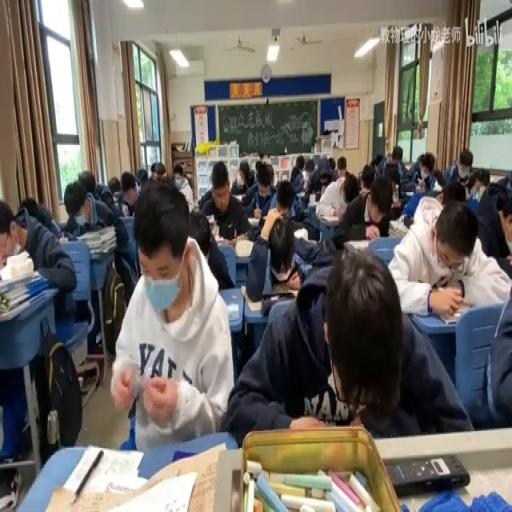calculator: (40, 441, 222, 510), (0, 287, 46, 320), (368, 234, 404, 264), (430, 299, 473, 323), (0, 266, 39, 292), (234, 238, 252, 256), (388, 218, 406, 236), (218, 232, 240, 246), (318, 212, 340, 225), (345, 239, 370, 250), (226, 302, 240, 320), (293, 226, 309, 240), (246, 214, 260, 224), (210, 222, 219, 237), (230, 193, 244, 202), (308, 196, 317, 209), (297, 191, 309, 199), (206, 214, 215, 224), (403, 191, 414, 199), (58, 235, 69, 243)
paper: (226, 248, 466, 442), (110, 180, 231, 450), (0, 195, 76, 462), (386, 196, 508, 314), (63, 174, 133, 298), (246, 213, 308, 303), (197, 160, 251, 244), (484, 277, 512, 427), (334, 170, 388, 244), (243, 159, 280, 218), (446, 148, 476, 189), (408, 151, 438, 192), (115, 170, 140, 218), (187, 210, 210, 256), (0, 223, 24, 266), (298, 237, 333, 266), (171, 165, 194, 206), (382, 144, 405, 182), (274, 180, 294, 220), (466, 166, 488, 198), (439, 181, 467, 206), (497, 206, 512, 248), (299, 158, 315, 190), (18, 196, 40, 219), (360, 164, 374, 192), (495, 176, 512, 199), (78, 170, 94, 194), (107, 176, 121, 198), (198, 186, 212, 208), (134, 166, 148, 186), (238, 159, 250, 181), (390, 199, 403, 218), (319, 166, 331, 185), (432, 166, 443, 185), (259, 150, 272, 164), (290, 165, 299, 185), (336, 155, 346, 172), (294, 154, 303, 170), (373, 154, 382, 170), (328, 155, 336, 171), (254, 160, 262, 176), (418, 161, 426, 176), (429, 154, 436, 170), (149, 161, 156, 176), (313, 154, 320, 168), (174, 174, 182, 182), (386, 154, 392, 164)
person: (386, 454, 470, 496), (261, 292, 296, 314), (270, 282, 298, 296), (403, 213, 414, 226), (244, 227, 254, 239), (314, 192, 320, 201)
